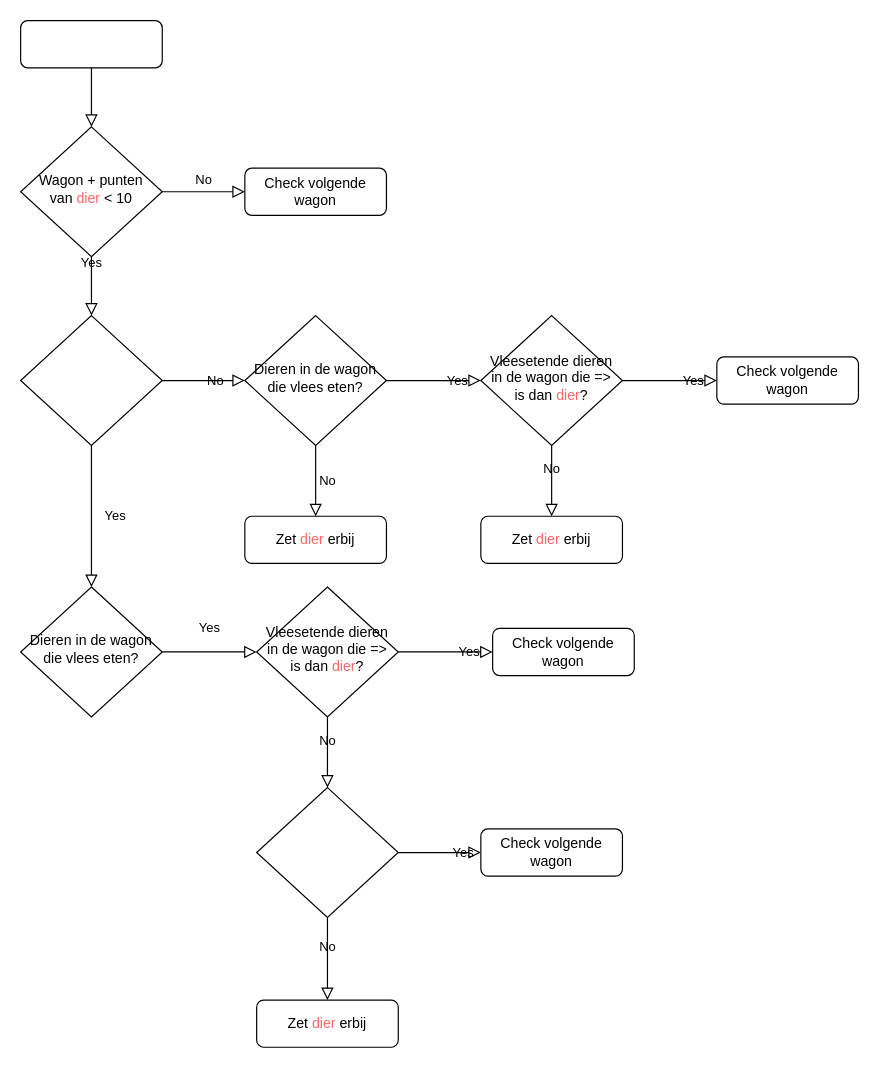
Some shapes in this 879 by 1068 pixel diagram are drawn without their labels. Each missing label, with the box of its shape:
Dier inladen: (19, 19, 162, 68)
Eet dier vlees?: (19, 314, 162, 445)
Plantetende dieren in wagon die =< zijn dan dier ?: (255, 786, 398, 917)
